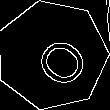O_NW: (18, 22, 86, 88)
